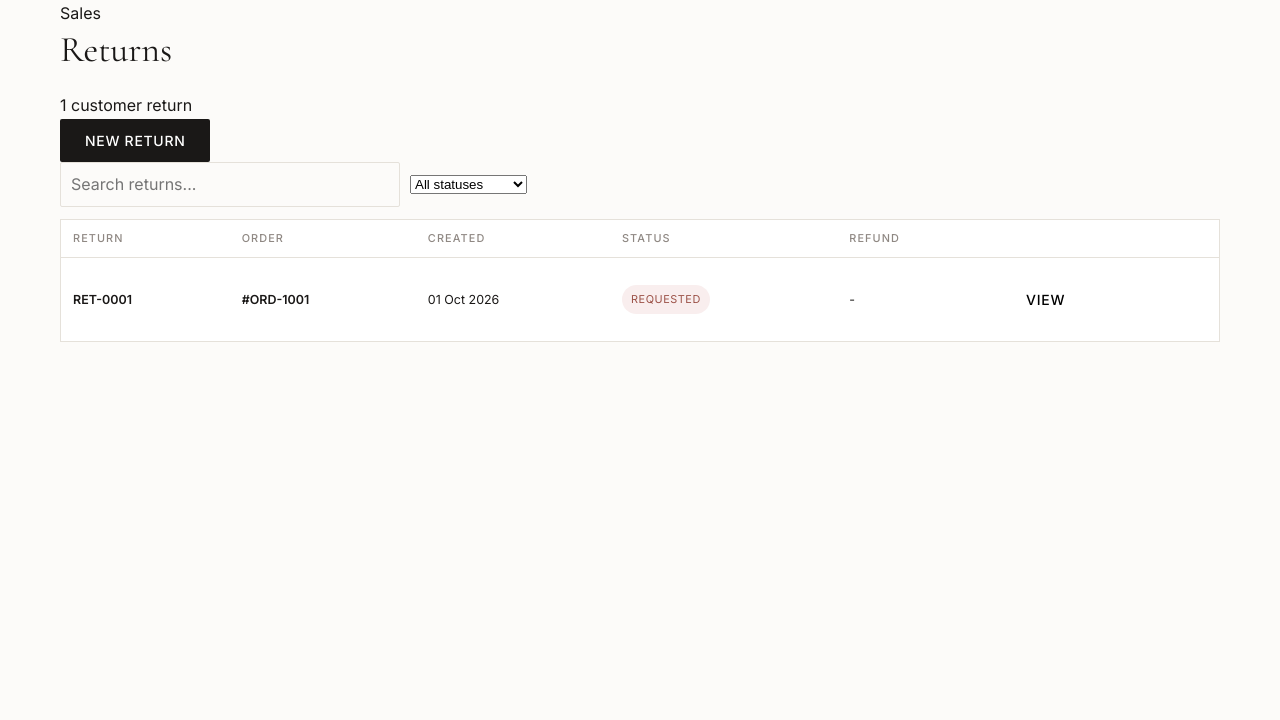
Returns admin page › shows a backend conflict message when the status change is rejected
The image size is (1280, 720).
Check: the text "RET-0001" is shown, box [73,292,132,307]
Click the button "View" at (1046, 300), box [1001,278,1090,321]
(page scrolled)
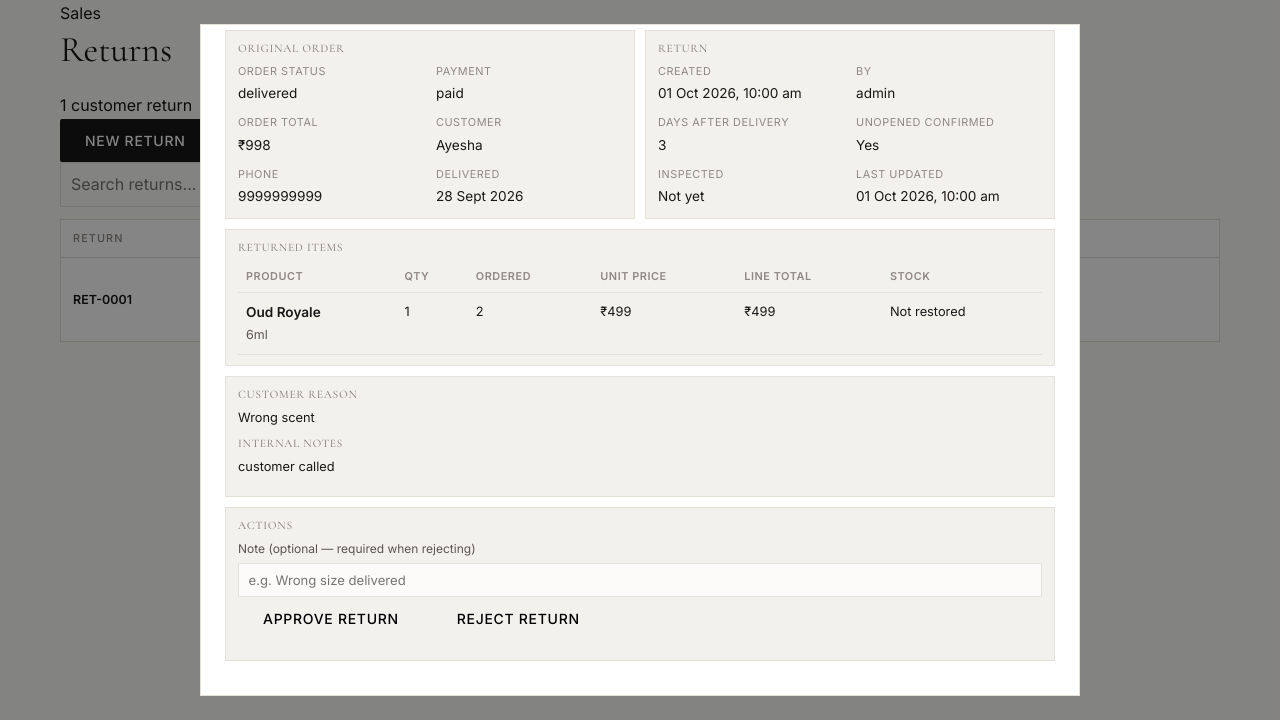
Check: the dialog is shown
Click the button "Approve return" at (331, 618), box [238,597,424,640]
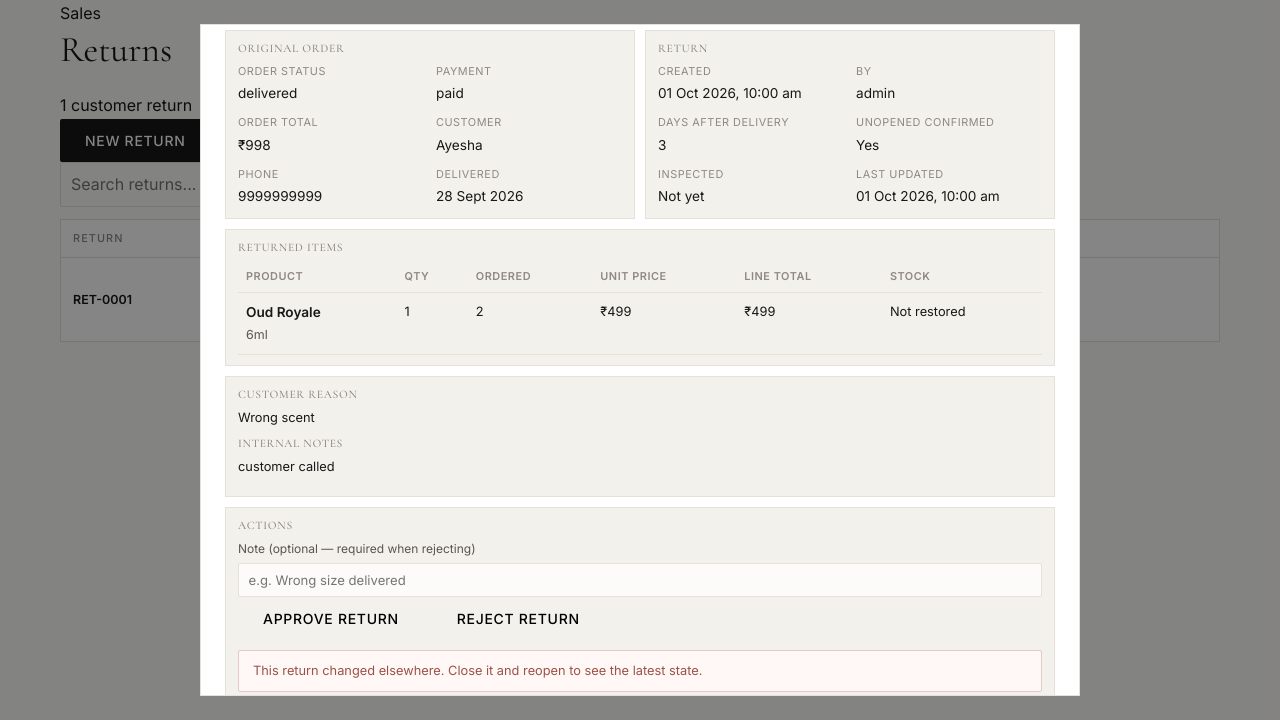
Check: the text "changed elsewhere" is shown, box [253,663,702,678]
